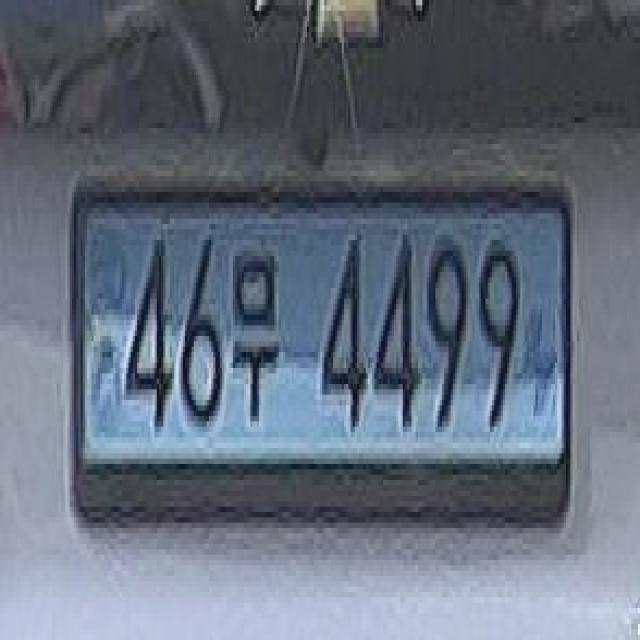EV_plate: (70, 152, 571, 560)
